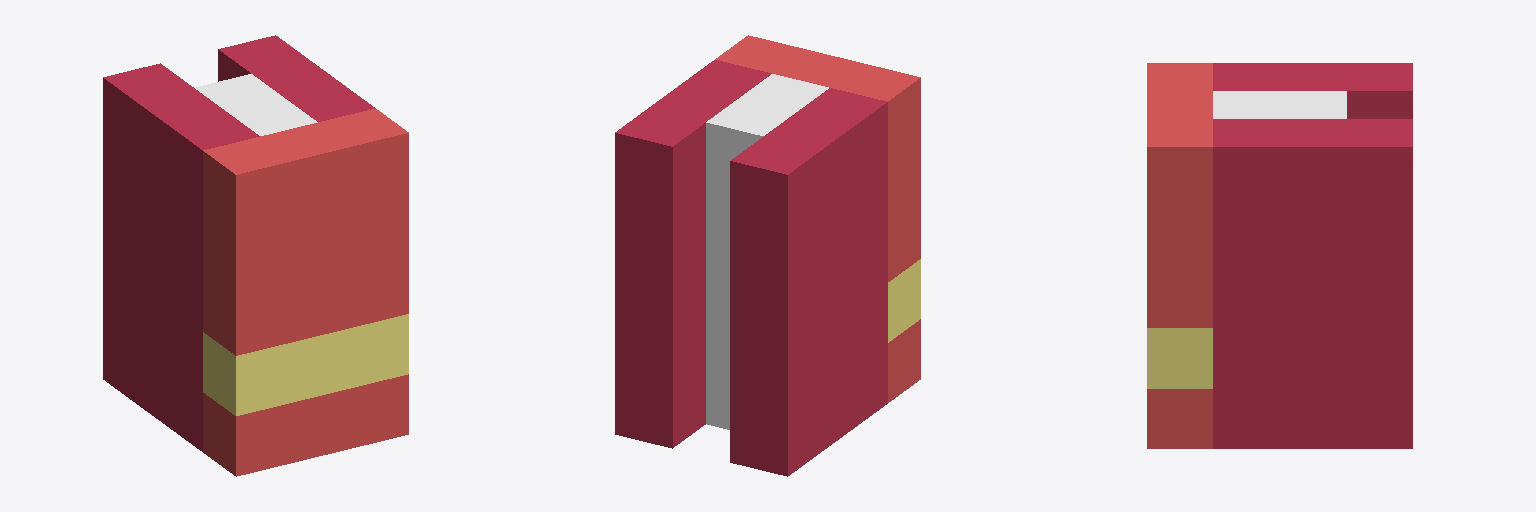
3 views of the same model, side by side, from view 1: azimuth 30°, elevation 25°; view 2: azimuth 150°, elevation 25°; view 3: azimuth 270°, elevation 25° (orthographic).
Visible parts, largest first — view 1: object 1; view 2: object 1; view 3: object 1.
Part boxes in pixels (left/top/right/bottom): object 1: left=103, top=35, right=408, bottom=476; object 1: left=615, top=35, right=920, bottom=476; object 1: left=1147, top=63, right=1412, bottom=448.
Bounding box in the file's own units: 0.3 × 0.5 × 0.4.
1 materials, 1 textured.